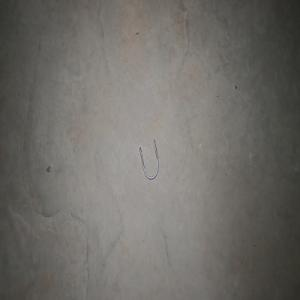ClampPart: (138, 138, 159, 180)
